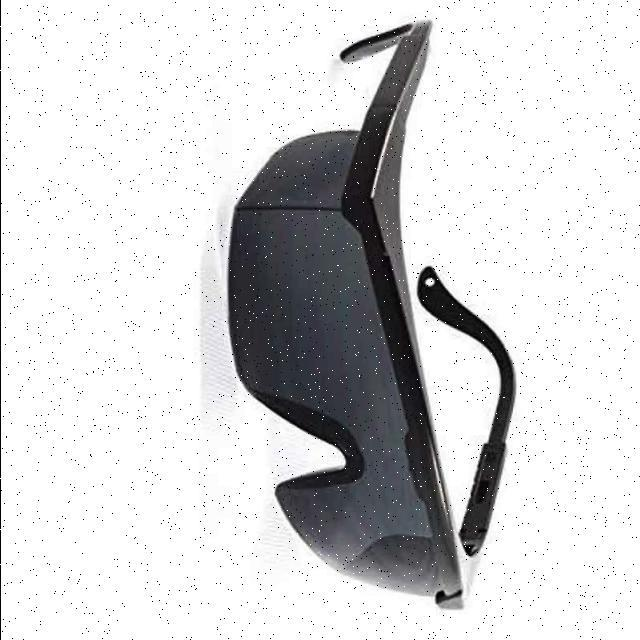Goggles: (220, 4, 521, 638)
